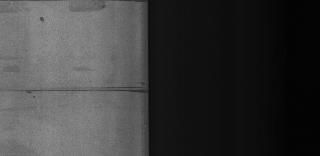scratches: (11, 80, 147, 98)
